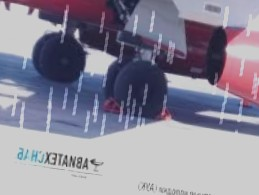chock: (99, 93, 126, 115), (152, 103, 175, 123)
wheel: (110, 54, 172, 123), (27, 27, 93, 89)
